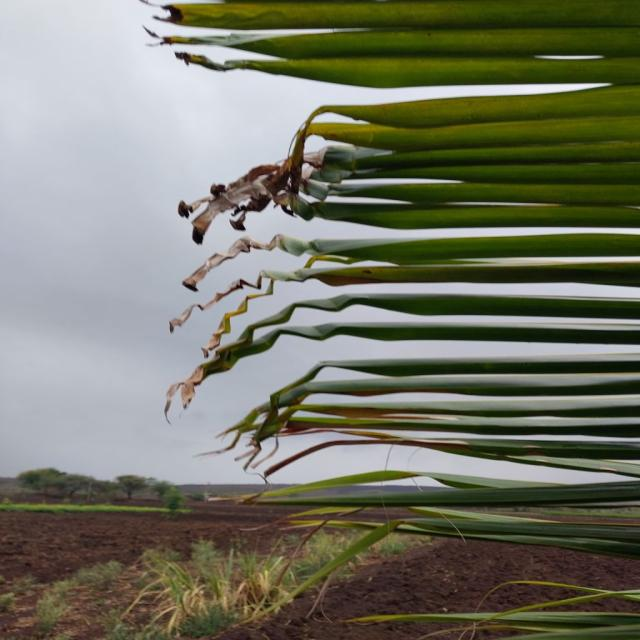leaf rot: (138, 104, 476, 573)
